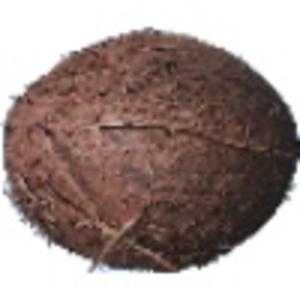coco: (3, 29, 300, 274)
